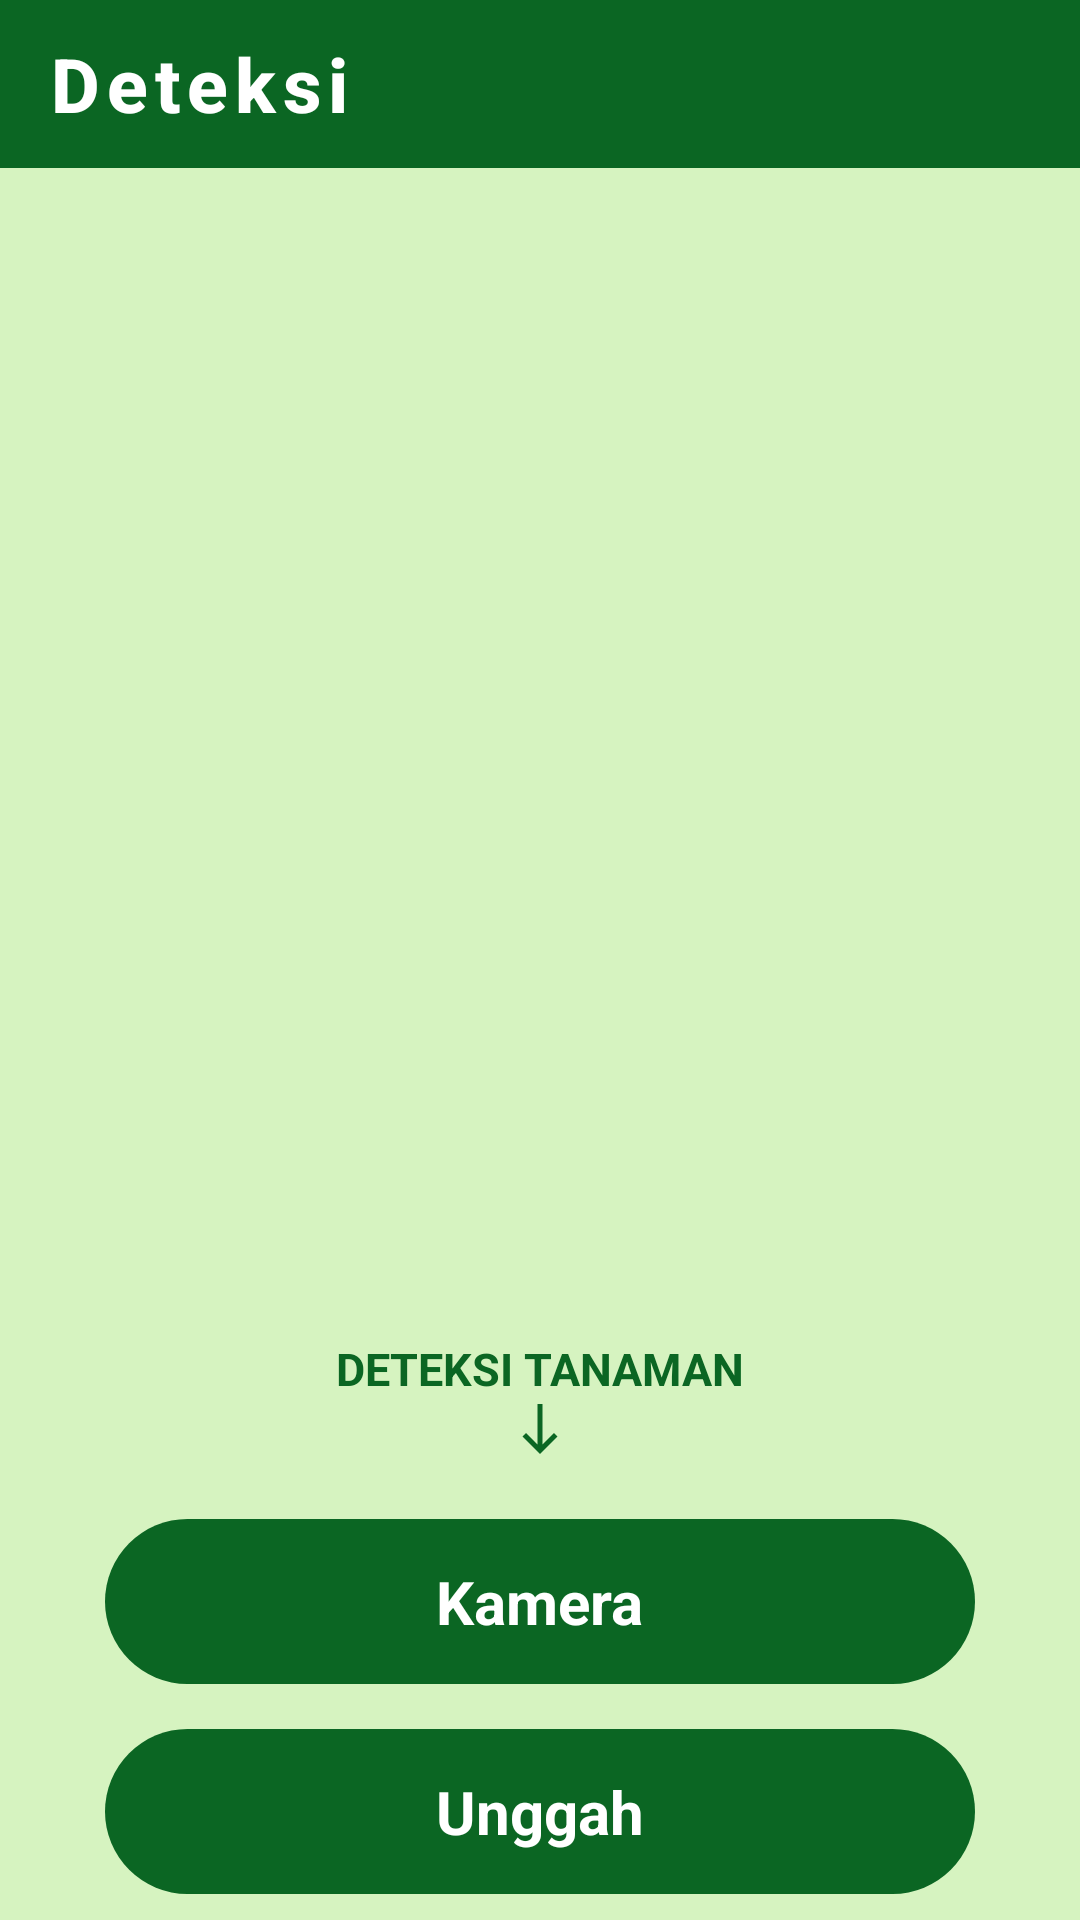

Locate icon controls on the screen. Image size 1080 × 1920, boxes as region(x1, y1, x2, y2).
south: region(522, 1404, 558, 1454)
